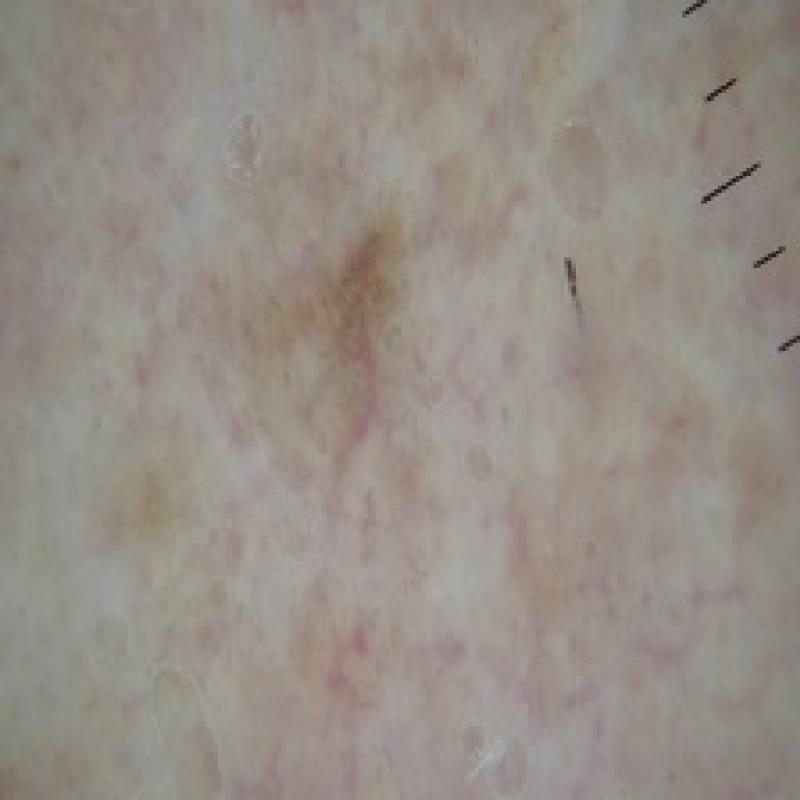malignant: (270, 238, 464, 489)
